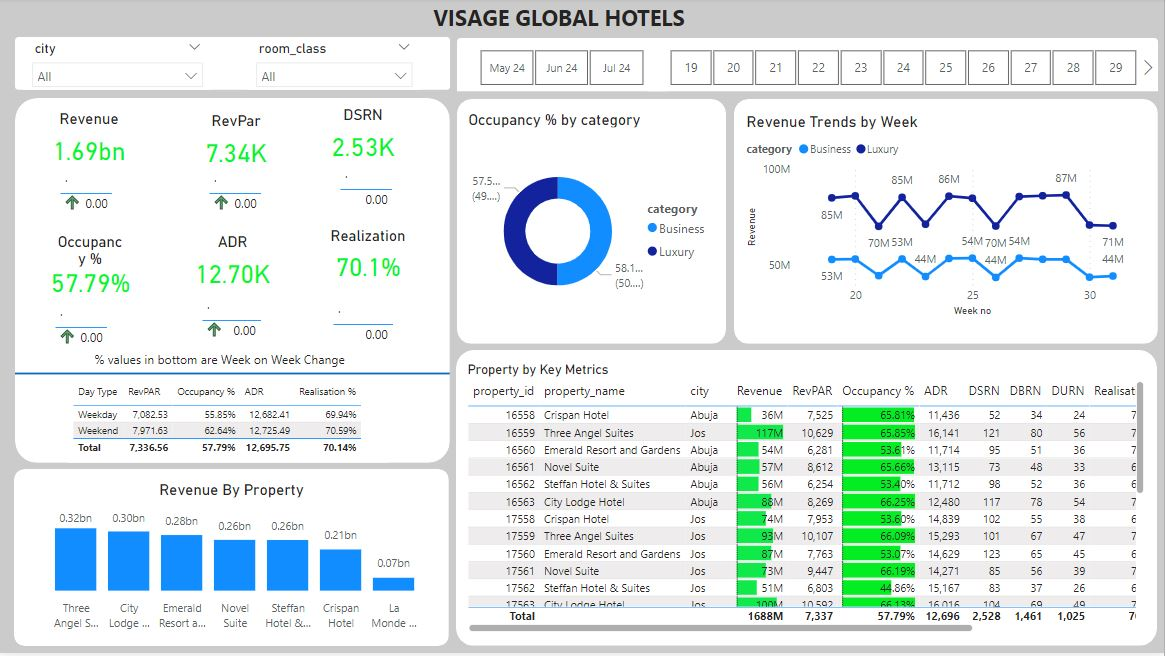

The dashboard page shown, as its layout file describes it:
{"tool":"powerbi","page":{"name":"Page 1","canvas":[1280,720],"ordinal":0},"visuals":[{"type":"shape","box":[502.5,44,770.9,58.3],"z":0},{"type":"shape","box":[17,43.3,478.6,58.2],"z":1000},{"type":"shape","box":[15.4,517.9,478.4,194.6],"z":2000},{"type":"shape","box":[501.4,387.1,770.9,325.5],"z":3000},{"type":"shape","box":[807.1,111.1,466.3,269.4],"z":4000},{"type":"shape","box":[502.5,111.1,295.8,269.4],"z":5000},{"type":"shape","box":[16.5,110,478.4,401.4],"z":6000},{"type":"tableEx","title":"Property by Key Metrics","fields":{"Values":["Dim_Hotels.property_id","Dim_Hotels.property_name","Dim_Hotels.city","Key Measures.Revenue","Key Measures.RevPAR","Key Measures.Occupancy %","Key Measures.ADR","Key Measures.DSRN","Key Measures.DBRN","Key Measures.DURN","Key Measures.Realisation %","Key Measures.Cancellation %"]},"box":[509.1,400.3,754.4,302.4],"z":7000},{"type":"slicer","fields":{"Values":["Dim_Hotels.city"]},"box":[25.5,43.3,207.5,58.2],"z":8000},{"type":"slicer","title":"Room Class","fields":{"Values":["Dim_Rooms.room_class"]},"box":[272.2,43.3,191.6,58.2],"z":9000},{"type":"slicer","title":"Months","fields":{"Values":["Dim_Date.mmm yy"]},"box":[502.5,50.6,228.7,51.7],"z":10000},{"type":"slicer","title":"Week Number","fields":{"Values":["Dim_Date.Week no"]},"box":[711.5,50.6,561.9,51.7],"z":11000},{"type":"card","title":"Revenue","fields":{"Values":["Key Measures.Revenue"]},"box":[48.4,122.1,99,72.6],"z":12000},{"type":"tableEx","fields":{"Values":["Key Measures.Revenue WoW change %"]},"box":[60.5,182.5,74.8,82.5],"z":13000},{"type":"donutChart","fields":{"Category":["Dim_Hotels.category"],"Y":["Key Measures.Occupancy %"]},"box":[510.2,123.2,280.4,247.4],"z":14000},{"type":"card","title":"RevPar","fields":{"Values":["Key Measures.RevPAR"]},"box":[207.8,124.3,103.4,72.6],"z":15000},{"type":"tableEx","fields":{"Values":["Key Measures.Revpar WoW change %"]},"box":[224.3,182.5,78.1,70.4],"z":16000},{"type":"card","title":"DSRN","fields":{"Values":["Key Measures.DSRN"]},"box":[349.7,117.7,99,72.6],"z":17000},{"type":"tableEx","fields":{"Values":["Key Measures.DSRN WoW change %"]},"box":[368.4,178.1,73.7,58.3],"z":18000},{"type":"card","title":"Occupancy %","fields":{"Values":["Key Measures.Occupancy %"]},"box":[48.4,257.3,101.2,72.6],"z":19000},{"type":"tableEx","fields":{"Values":["Key Measures.Occupancy WoW change %"]},"box":[55,322.2,88,57.2],"z":20000},{"type":"card","title":"ADR","fields":{"Values":["Key Measures.ADR"]},"box":[208.9,257.3,93.5,72.6],"z":21000},{"type":"tableEx","fields":{"Values":["Key Measures.ADR WoW change %"]},"box":[216.6,322.2,80.3,61.6],"z":22000},{"type":"card","title":"Realization","fields":{"Values":["Key Measures.Realisation %"]},"box":[358.5,250.7,101.2,72.6],"z":23000},{"type":"tableEx","fields":{"Values":["Key Measures.Realisation WoW change %"]},"box":[360.7,311.2,88,60.5],"z":24000},{"type":"shape","box":[16.5,406.9,478.4,12.1],"z":25000},{"type":"tableEx","fields":{"Values":["Dim_Date.Day Type","Key Measures.RevPAR","Key Measures.Occupancy %","Key Measures.ADR","Key Measures.Realisation %"]},"box":[74.8,419,350.8,92.4],"z":26000},{"type":"lineStackedColumnComboChart","title":"Revenue By Property","fields":{"Category":["Dim_Hotels.property_name"],"Y":["Key Measures.Revenue"]},"box":[24.2,530,460.8,172.6],"z":27000},{"type":"lineChart","title":"Revenue Trends by Week","fields":{"Series":["Dim_Hotels.category"],"Category":["Dim_Date.Week no"],"Y":["Key Measures.Revenue"]},"box":[815.9,125.4,448.7,228.7],"z":28000},{"type":"textbox","box":[99,383.8,302.4,27.5],"z":29000},{"type":"textbox","box":[111.1,0,1013.9,42.9],"z":30000}]}

Visuals, with their boxes in screenshot pixels (x1, y1, x2, y2), scaled from the page's 1280x720 canvas onto the 1166x656 screenshot:
shape: (x1=458, y1=40, x2=1160, y2=93)
shape: (x1=15, y1=39, x2=451, y2=92)
shape: (x1=14, y1=472, x2=450, y2=649)
shape: (x1=457, y1=353, x2=1159, y2=649)
shape: (x1=735, y1=101, x2=1160, y2=347)
shape: (x1=458, y1=101, x2=727, y2=347)
shape: (x1=15, y1=100, x2=451, y2=466)
"Property by Key Metrics" tableEx: (x1=464, y1=365, x2=1151, y2=640)
slicer - Dim_Hotels.city: (x1=23, y1=39, x2=212, y2=92)
"Room Class" slicer: (x1=248, y1=39, x2=422, y2=92)
"Months" slicer: (x1=458, y1=46, x2=666, y2=93)
"Week Number" slicer: (x1=648, y1=46, x2=1160, y2=93)
"Revenue" card: (x1=44, y1=111, x2=134, y2=177)
tableEx - Key Measures.Revenue WoW change %: (x1=55, y1=166, x2=123, y2=241)
donutChart - Dim_Hotels.category x Key Measures.Occupancy %: (x1=465, y1=112, x2=720, y2=338)
"RevPar" card: (x1=189, y1=113, x2=283, y2=179)
tableEx - Key Measures.Revpar WoW change %: (x1=204, y1=166, x2=275, y2=230)
"DSRN" card: (x1=319, y1=107, x2=409, y2=173)
tableEx - Key Measures.DSRN WoW change %: (x1=336, y1=162, x2=403, y2=215)
"Occupancy %" card: (x1=44, y1=234, x2=136, y2=301)
tableEx - Key Measures.Occupancy WoW change %: (x1=50, y1=294, x2=130, y2=346)
"ADR" card: (x1=190, y1=234, x2=275, y2=301)
tableEx - Key Measures.ADR WoW change %: (x1=197, y1=294, x2=270, y2=350)
"Realization" card: (x1=327, y1=228, x2=419, y2=295)
tableEx - Key Measures.Realisation WoW change %: (x1=329, y1=284, x2=409, y2=339)
shape: (x1=15, y1=371, x2=451, y2=382)
tableEx - Dim_Date.Day Type x Key Measures.RevPAR: (x1=68, y1=382, x2=388, y2=466)
"Revenue By Property" lineStackedColumnComboChart: (x1=22, y1=483, x2=442, y2=640)
"Revenue Trends by Week" lineChart: (x1=743, y1=114, x2=1152, y2=323)
textbox: (x1=90, y1=350, x2=366, y2=375)
textbox: (x1=101, y1=0, x2=1025, y2=39)
